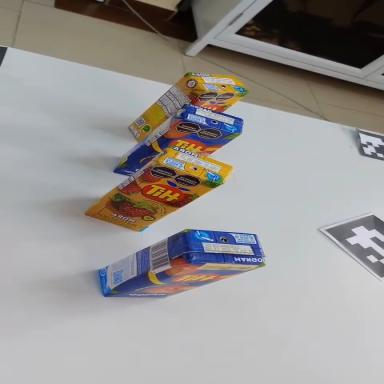HIT-MANGO: (91, 210, 267, 316), (103, 82, 248, 204)
HIT-MORA: (78, 125, 237, 252), (118, 56, 250, 143)
cara_F: (79, 139, 223, 252), (110, 98, 241, 206), (102, 242, 264, 316), (193, 91, 247, 114)
